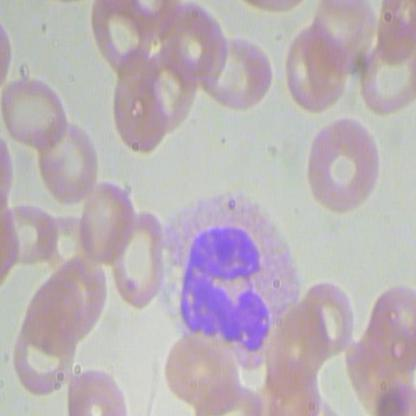RBC: (296, 114, 387, 224), (192, 35, 275, 114), (1, 74, 72, 152), (38, 118, 100, 205), (75, 178, 137, 264)
WBC: (141, 185, 306, 384)
